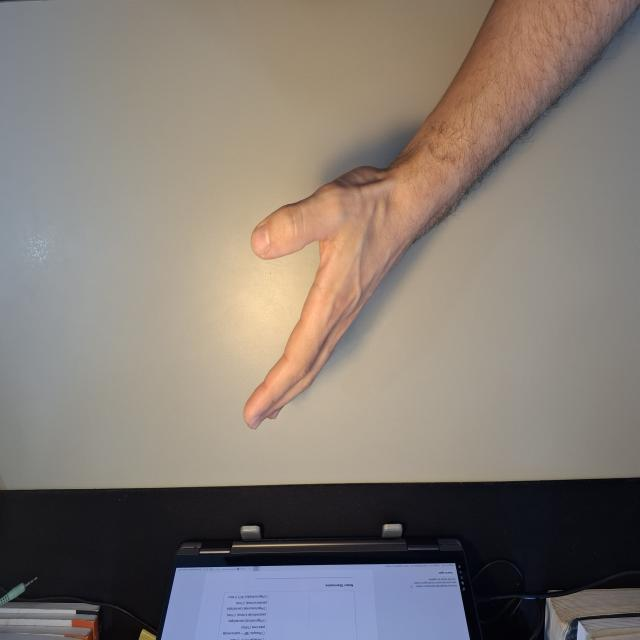glove_off: (241, 154, 411, 431)
